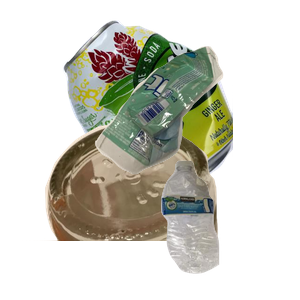glass: (22, 120, 233, 300)
metal: (60, 18, 300, 198)
plastic: (159, 158, 300, 300)
trash: (92, 44, 300, 211)
